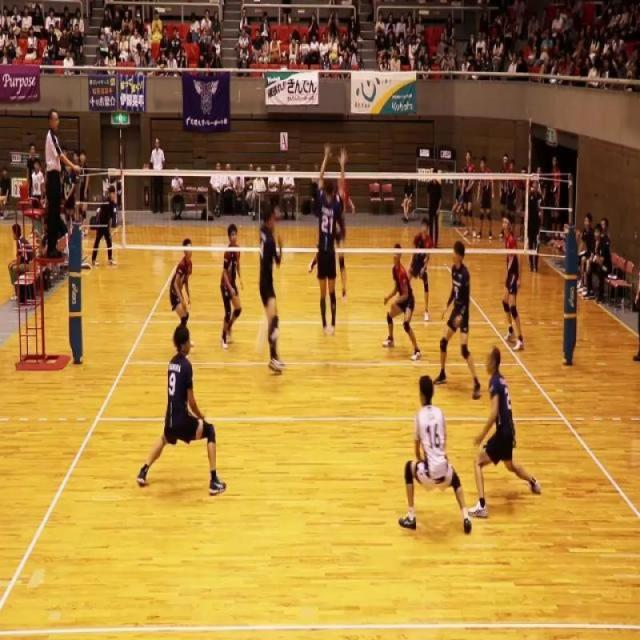volleyball: (254, 308, 273, 356)
